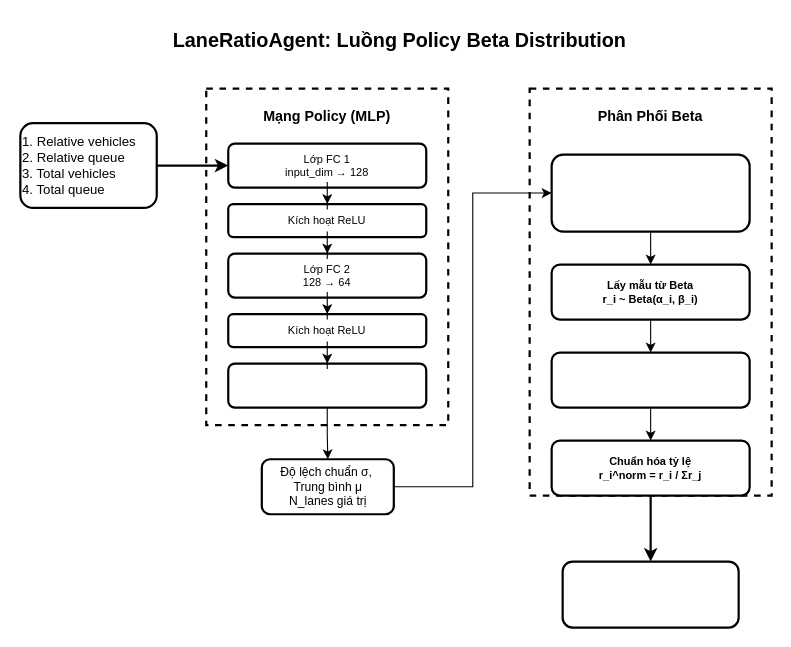
Some shapes in this 791 by 647 pixel diagram are drawn without their labels. Here are the shapes that lost their labels. From the top down, the centre of each, then its label:
the point at 650,192: Chuyển sang α, β α = μ·(μ(1-μ)/σ² - 1) β = (1-μ)·(μ(1-μ)/σ² - 1)
the point at 327,385: Lớp FC 3 64 → 2×N_lanes
the point at 650,379: Giới hạn [ε, 1-ε] ε = 0.01
the point at 650,594: Tỷ lệ làn đường Σr_i = 1.0
